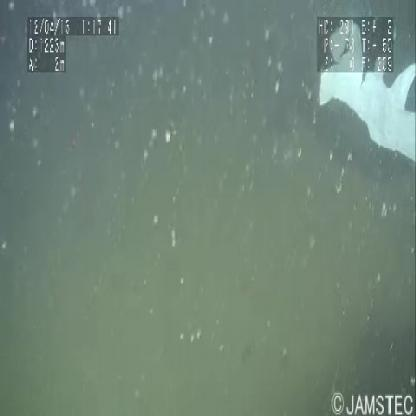Rác: (318, 19, 415, 167)
